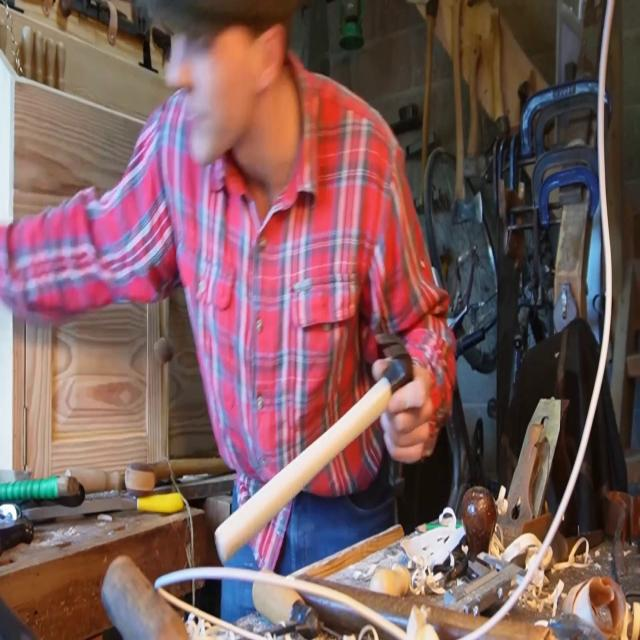hammer: (214, 332, 415, 563)
